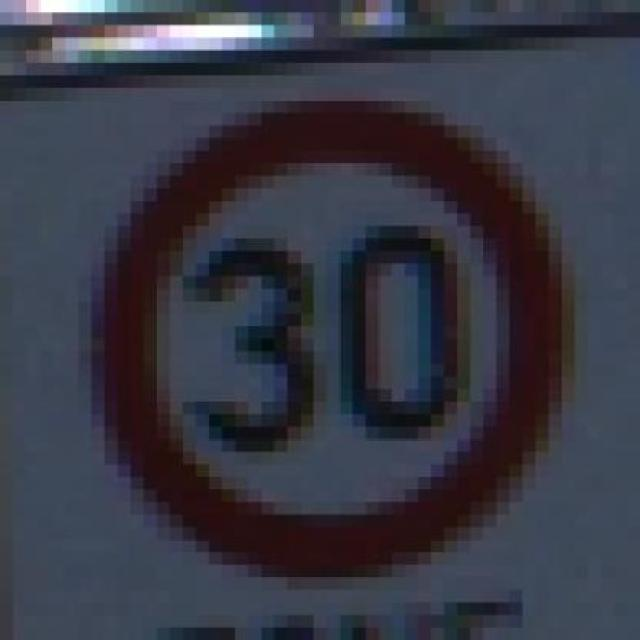Speed Limit 30 KMPh: (39, 101, 588, 590)
